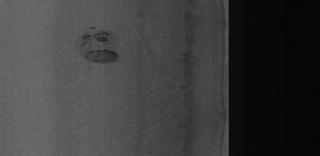oil spot: (74, 22, 120, 66)
silk spot: (133, 5, 201, 150)
